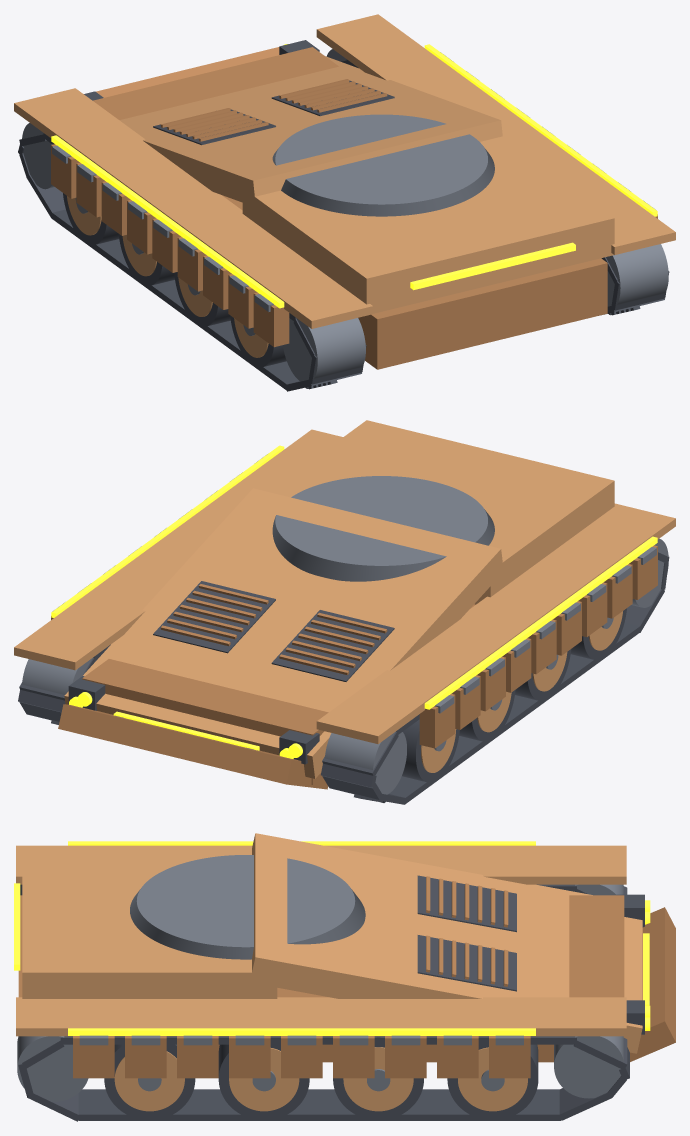
Rendered from Laser_hull.glb.
The picture shows the model from 3 angles, top to bottom: view 1: azimuth 30°, elevation 25°; view 2: azimuth 150°, elevation 25°; view 3: azimuth 270°, elevation 25°; orthographic projection. The views are drawn at different scales.
Parts seen in each view (by area): view 1: Laser_Hull; view 2: Laser_Hull; view 3: Laser_Hull.
Part boxes in pixels (x1=…): Laser_Hull: x1=14, y1=14, x2=675, y2=391; Laser_Hull: x1=14, y1=420, x2=675, y2=804; Laser_Hull: x1=14, y1=833, x2=675, y2=1121.
Bounding box in the file's own units: 3.54 × 1.21 × 5.09.
